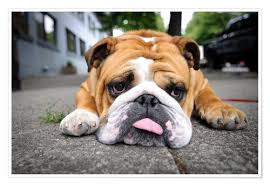Bulldog: (40, 17, 254, 157)
